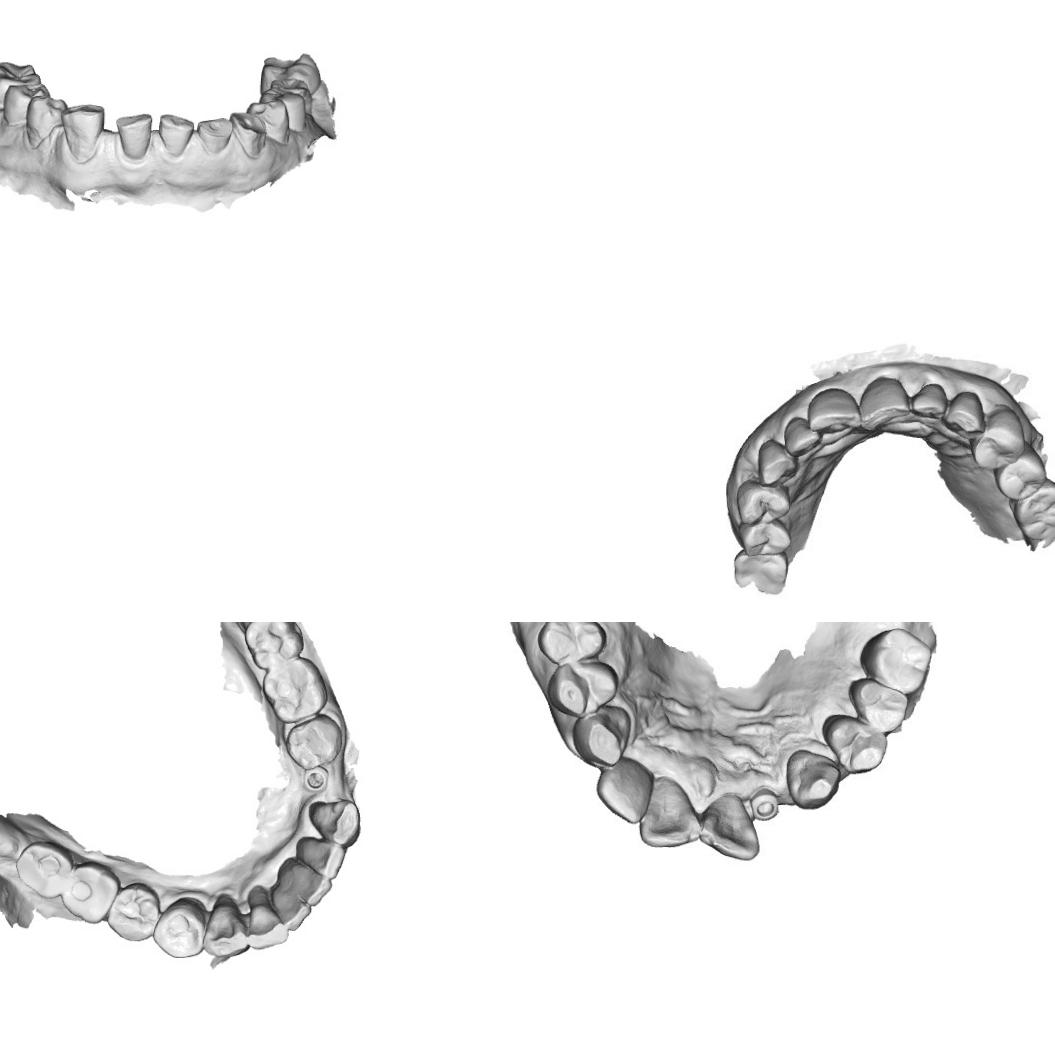canine: (788, 746, 845, 808), (201, 893, 251, 960), (582, 708, 633, 765), (307, 798, 361, 848), (24, 92, 67, 144), (754, 439, 798, 488), (228, 110, 268, 160), (946, 396, 984, 430)
implant: (301, 764, 329, 795), (755, 790, 778, 819)
incisor: (637, 781, 701, 848), (592, 758, 648, 821), (706, 798, 757, 858), (244, 885, 290, 950), (60, 100, 106, 160), (278, 856, 332, 906), (858, 380, 909, 426), (295, 836, 346, 880), (268, 882, 312, 932), (808, 392, 862, 430), (114, 111, 153, 161), (156, 113, 196, 159), (781, 416, 822, 459), (196, 116, 234, 156), (910, 385, 944, 419)
molar: (260, 654, 328, 724), (867, 631, 937, 693), (60, 859, 122, 924), (13, 839, 74, 900), (243, 622, 304, 671), (258, 51, 325, 89), (1015, 481, 1055, 539), (0, 59, 42, 106)
premolar: (150, 896, 205, 960), (283, 712, 343, 770), (106, 880, 161, 942), (554, 662, 616, 714), (826, 714, 882, 770), (540, 622, 605, 666), (854, 679, 907, 730), (974, 418, 1020, 474), (738, 520, 793, 562), (0, 81, 51, 126), (739, 478, 790, 522), (998, 452, 1044, 500), (246, 99, 292, 144), (258, 89, 306, 122)
